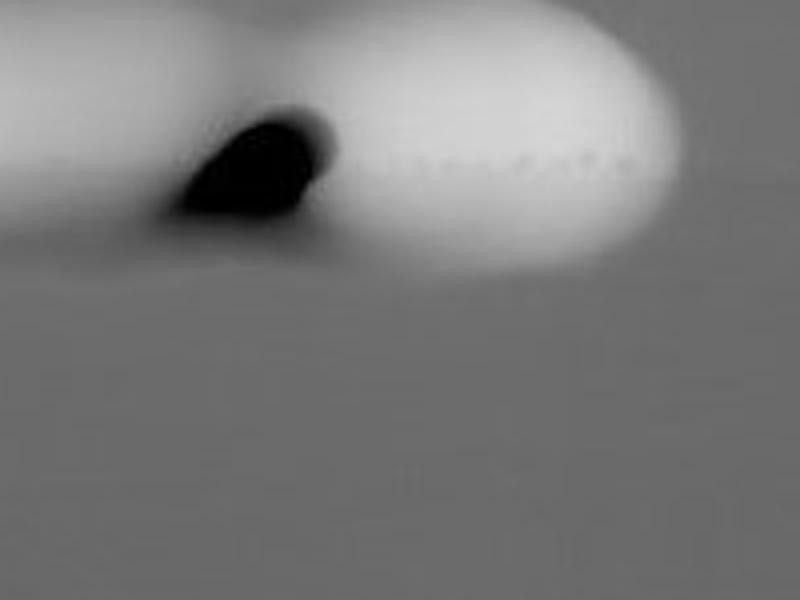defect: (178, 112, 329, 227)
